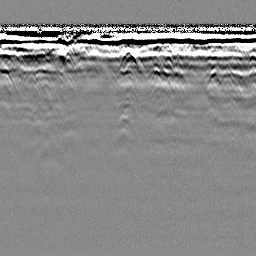cavity: (117, 46, 139, 70)
